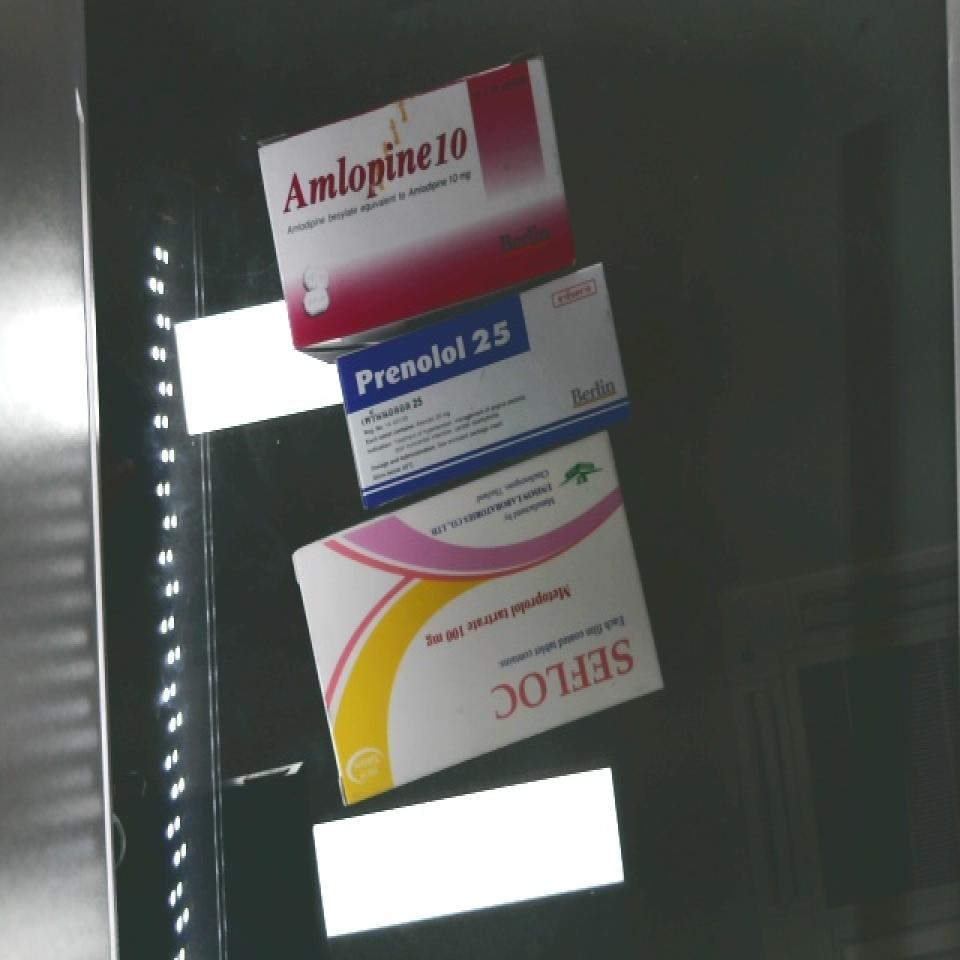medicine_box: (257, 429, 699, 808), (228, 52, 601, 349), (317, 262, 655, 503)
medicine_label_obb: (260, 92, 490, 228), (463, 600, 661, 747), (335, 293, 536, 415)
